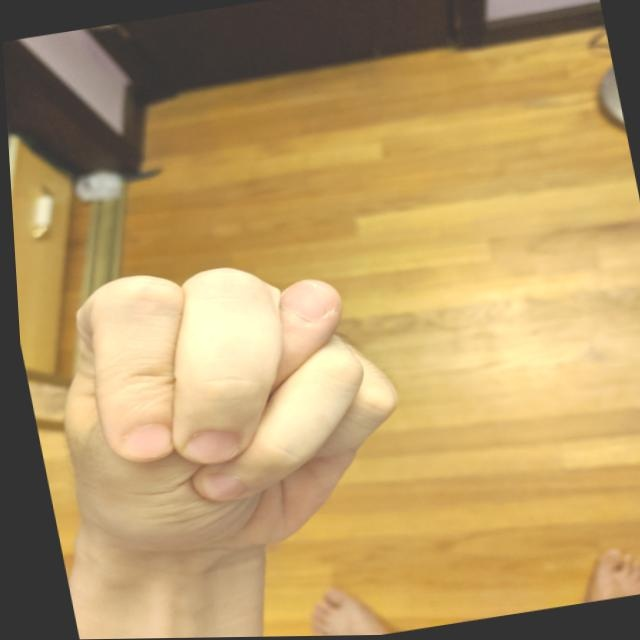N: (20, 232, 429, 585)
